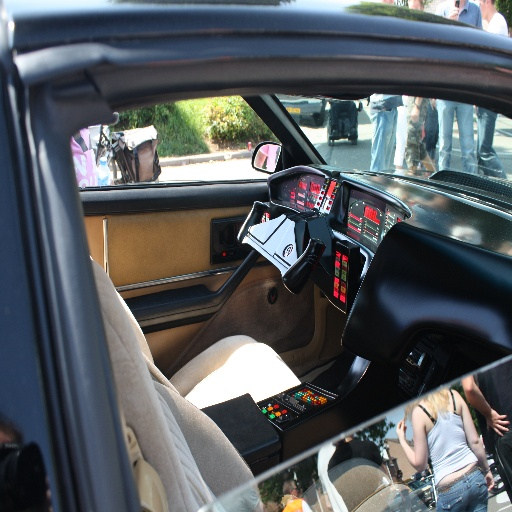hand: (448, 4, 460, 21), (410, 103, 419, 122)
